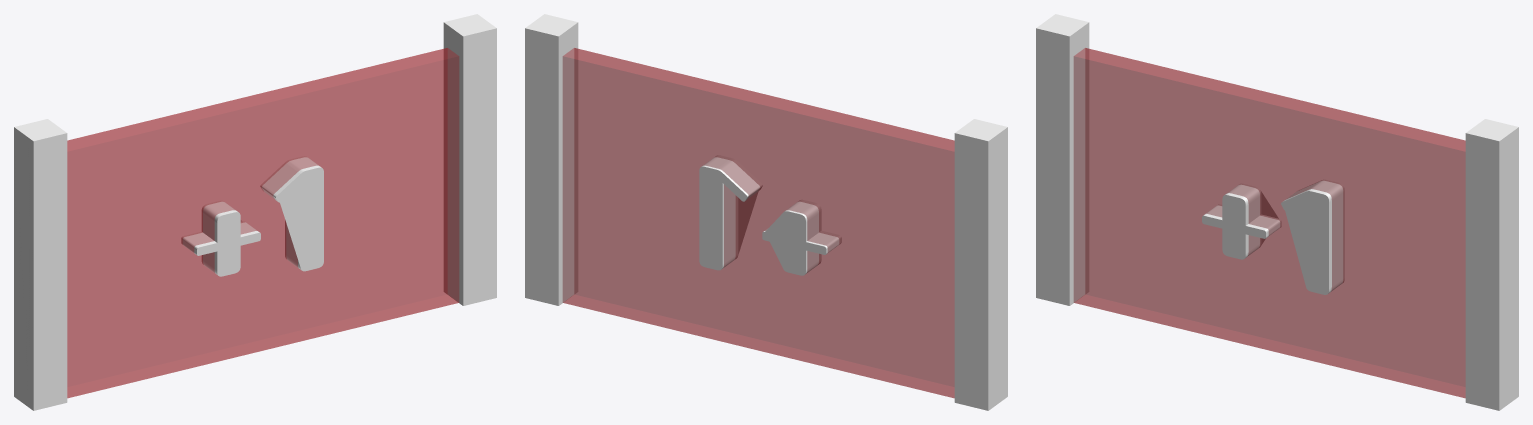
3 renders of one model, left to right at view 1: azimuth 30°, elevation 25°; view 2: azimuth 150°, elevation 25°; view 3: azimuth 330°, elevation 25°, orthographic.
Visible parts, largest first — view 1: Cube_3, Cube_1, Cube_2, 1_3, _; view 2: Cube_3, Cube_1, Cube_2, 1_3, _; view 3: Cube_3, Cube_2, Cube_1, 1_3, _.
Boxes of the visible parts, <box> form: Cube_3: <box>67,48,458,397</box>; Cube_1: <box>14,119,67,410</box>; Cube_2: <box>443,14,496,305</box>; 1_3: <box>260,156,323,271</box>; _: <box>181,201,260,276</box>; Cube_3: <box>563,48,954,397</box>; Cube_1: <box>954,119,1007,410</box>; Cube_2: <box>525,14,578,305</box>; 1_3: <box>699,155,762,270</box>; _: <box>762,200,841,275</box>; Cube_3: <box>1074,48,1465,397</box>; Cube_2: <box>1465,119,1518,410</box>; Cube_1: <box>1036,14,1089,305</box>; 1_3: <box>1281,180,1344,294</box>; _: <box>1202,184,1281,259</box>.
Bounding box in the file's own units: 393 × 219 × 28.63.
